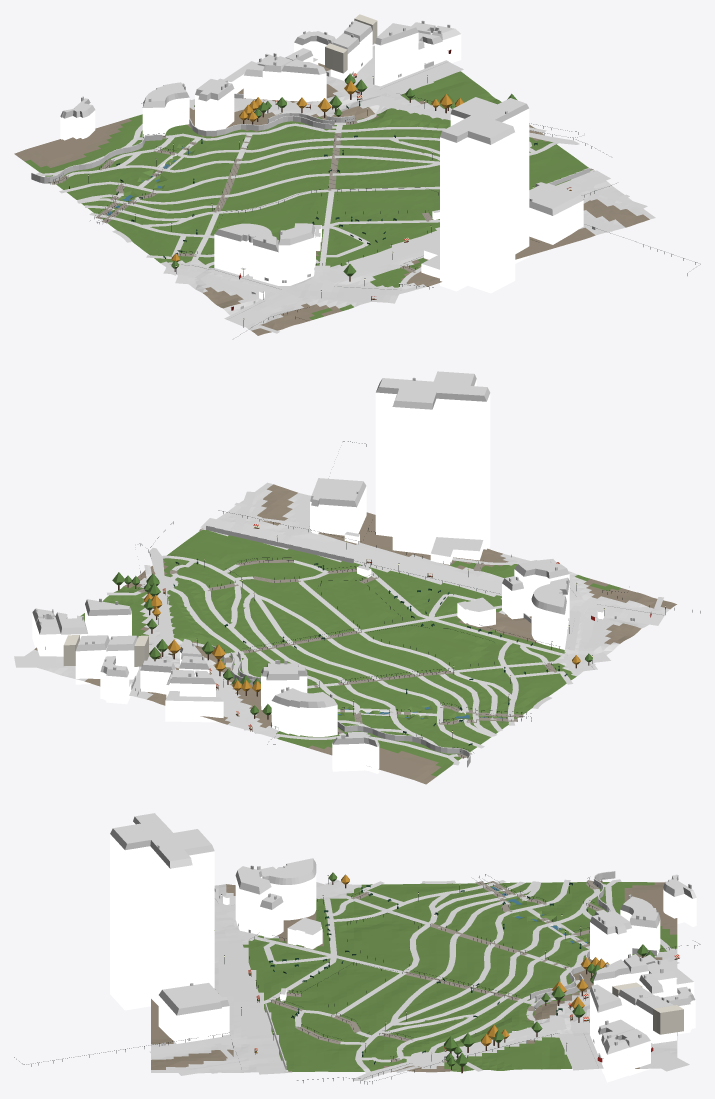
Rendered from zone_I4.glb.
3 views of the same model, one above another, from view 1: azimuth 30°, elevation 25°; view 2: azimuth 150°, elevation 25°; view 3: azimuth 270°, elevation 25° (orthographic). The views are drawn at different scales.
Visible parts, largest first — view 1: zone_I4_terrain, zone_I4_batiments, zone_I4_sol_NOCOL, zone_I4_decor_NOCOL; view 2: zone_I4_terrain, zone_I4_batiments, zone_I4_sol_NOCOL, zone_I4_decor_NOCOL; view 3: zone_I4_terrain, zone_I4_batiments, zone_I4_sol_NOCOL, zone_I4_decor_NOCOL.
Part boxes in pixels (x1,y1,x2,y2): zone_I4_terrain: (14,46,655,335); zone_I4_batiments: (31,14,590,299); zone_I4_sol_NOCOL: (36,55,647,333); zone_I4_decor_NOCOL: (48,73,700,334); zone_I4_terrain: (24,482,676,784); zone_I4_batiments: (32,371,604,773); zone_I4_sol_NOCOL: (14,491,665,765); zone_I4_decor_NOCOL: (112,441,700,758); zone_I4_terrain: (151,882,677,1073); zone_I4_batiments: (110,813,696,1082); zone_I4_sol_NOCOL: (149,879,689,1081); zone_I4_decor_NOCOL: (14,872,700,1084).
Size of the model in its own units: 224 by 77.24 by 274.
